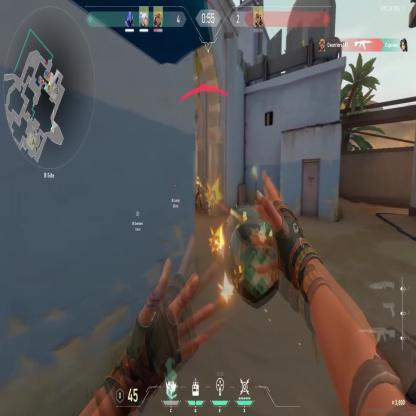enemy: (192, 174, 202, 212)
enemy_head: (196, 177, 199, 182)
